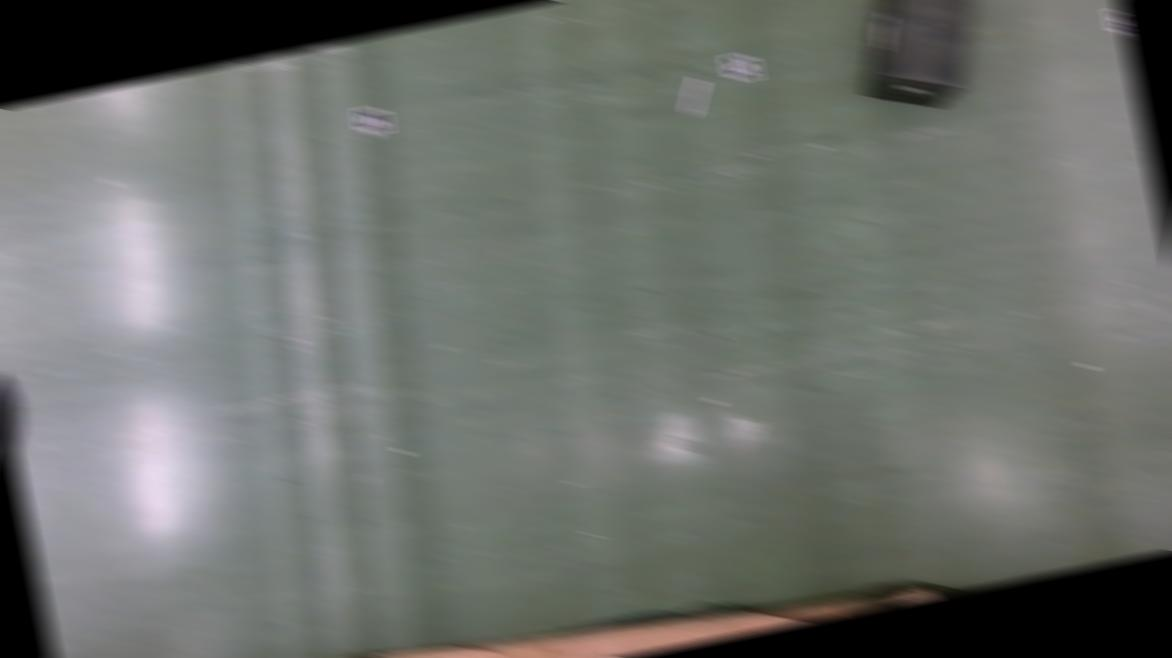probes: (678, 77, 710, 117)
rako: (841, 0, 1002, 121)
